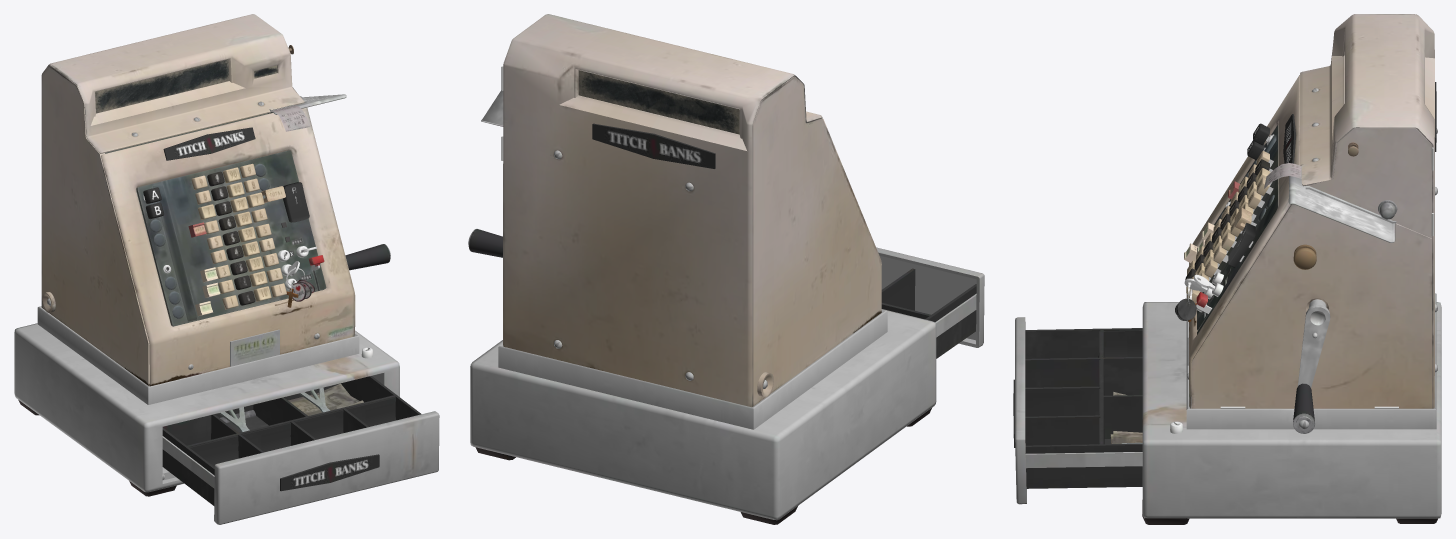
The model's file is CashRegister_01.glb.
The picture shows the model from 3 angles, left to right: view 1: azimuth 30°, elevation 25°; view 2: azimuth 150°, elevation 25°; view 3: azimuth 270°, elevation 25°; orthographic projection. The views are drawn at different scales.
Visible parts, largest first — view 1: CashRegister_01_body; view 2: CashRegister_01_body; view 3: CashRegister_01_body.
Part boxes in pixels (x1=…): CashRegister_01_body: x1=14, y1=14, x2=439, y2=524; CashRegister_01_body: x1=468, y1=14, x2=984, y2=524; CashRegister_01_body: x1=1013, y1=14, x2=1441, y2=524.
Size of the model in its own units: 0.6005 by 0.6213 by 0.6242.
2 materials, 2 textured.
